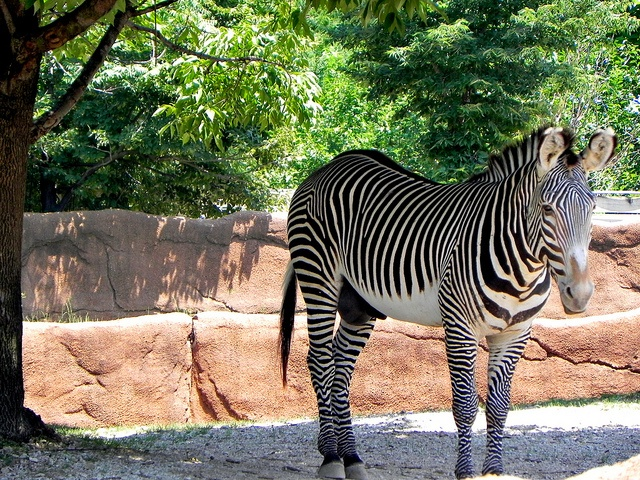zebra: (277, 123, 619, 478)
